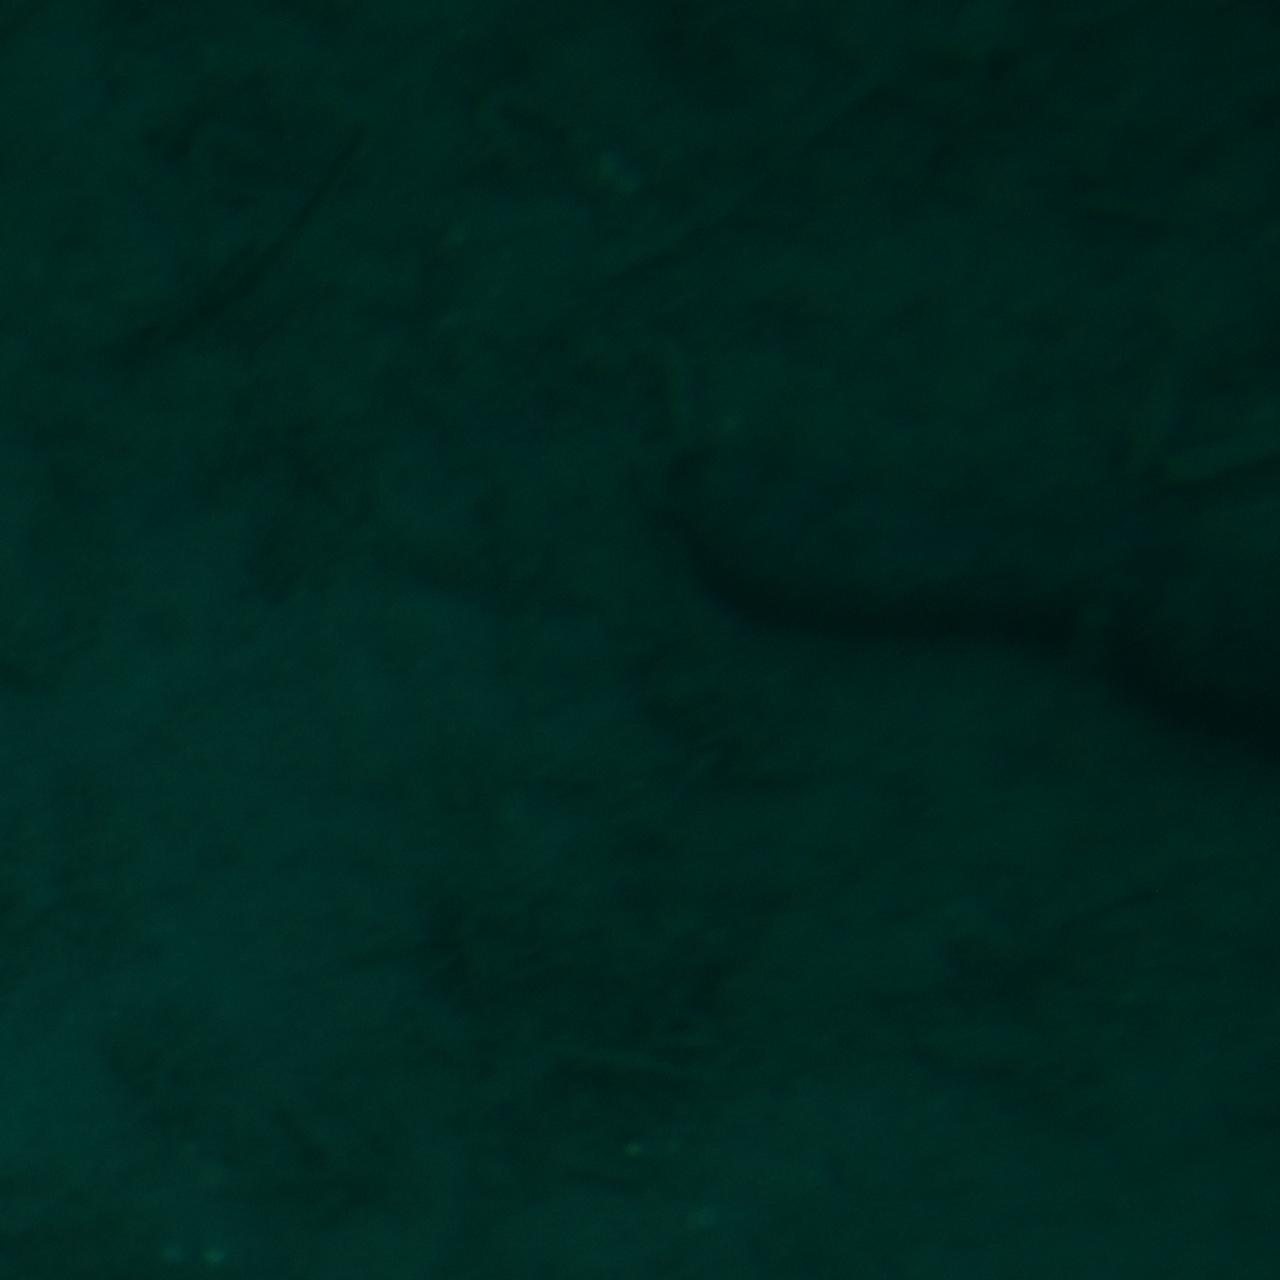Holothuria tubulosa: (627, 443, 1279, 726)
